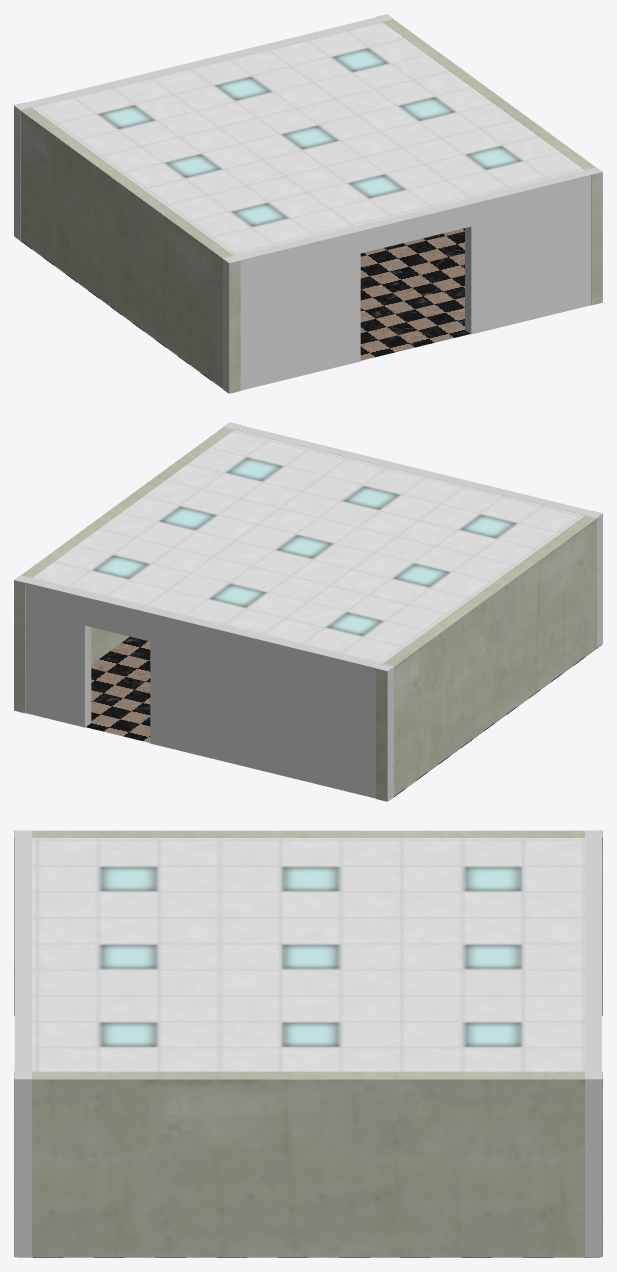
The model's file is Pvz_Tree.glb.
3 renders of one model, top to bottom at view 1: azimuth 30°, elevation 25°; view 2: azimuth 150°, elevation 25°; view 3: azimuth 270°, elevation 25°, orthographic. The views are drawn at different scales.
Visible parts, largest first — view 1: Ceiling-col, Front, Right-col, Floor-col, Left-col, Back; view 2: Ceiling-col, Back, Right-col, Floor-col, Left-col, Front; view 3: Ceiling-col, Left-col, Front, Back, Right-col, Floor-col.
Part boxes in pixels (x1=…): Ceiling-col: x1=20, y1=19, x2=595, y2=258; Front: x1=223, y1=167, x2=602, y2=393; Right-col: x1=14, y1=102, x2=240, y2=393; Floor-col: x1=15, y1=228, x2=469, y2=392; Left-col: x1=376, y1=14, x2=602, y2=305; Back: x1=14, y1=14, x2=393, y2=240; Ceiling-col: x1=21, y1=427, x2=596, y2=666; Back: x1=14, y1=575, x2=393, y2=801; Right-col: x1=376, y1=510, x2=602, y2=801; Floor-col: x1=86, y1=636, x2=601, y2=800; Left-col: x1=14, y1=422, x2=240, y2=713; Front: x1=223, y1=422, x2=602, y2=648; Ceiling-col: x1=32, y1=838, x2=584, y2=1079; Left-col: x1=14, y1=1071, x2=602, y2=1256; Front: x1=14, y1=830, x2=31, y2=1257; Back: x1=585, y1=830, x2=601, y2=1257; Right-col: x1=14, y1=830, x2=602, y2=1015; Floor-col: x1=17, y1=1257, x2=599, y2=1257.
Bounding box in the file's own units: 9.19 × 3.07 × 9.19.
Materials: 4 (4 with a texture image).
